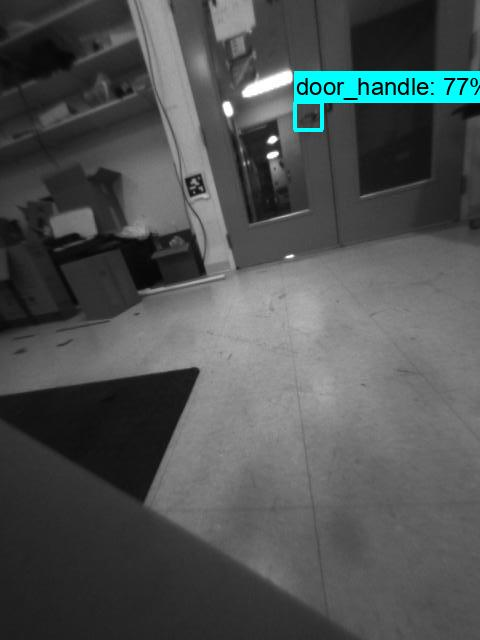door_handle: (295, 104, 323, 129)
